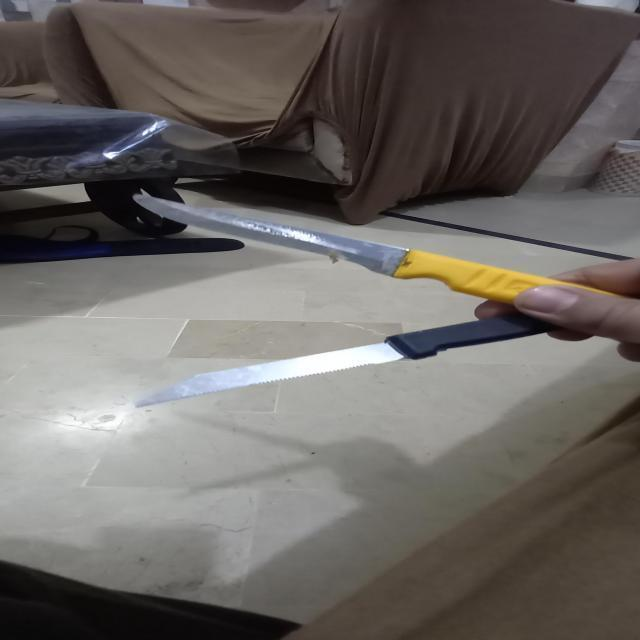knife: (124, 189, 640, 318), (124, 306, 640, 420)
